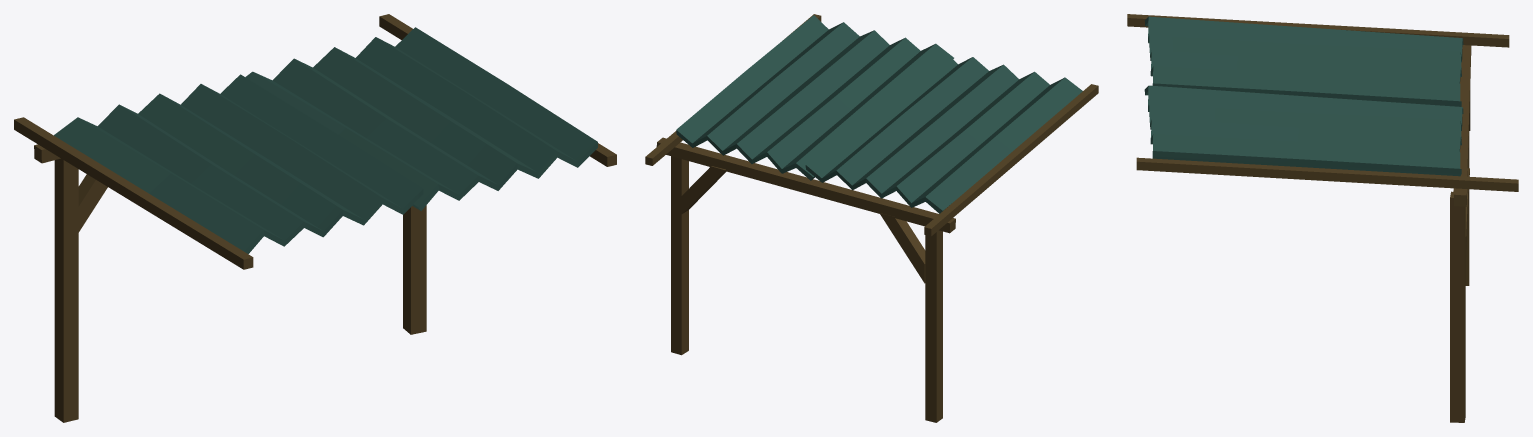
File: DarkWoodBuildingSmallCorrugatedAwning1.fbx
3 views of the same model, side by side, from view 1: azimuth 30°, elevation 25°; view 2: azimuth 150°, elevation 25°; view 3: azimuth 270°, elevation 25° (orthographic). The views are drawn at different scales.
Parts seen in each view (by area): view 1: CorrugatedRoofing, Supports; view 2: CorrugatedRoofing, Supports; view 3: CorrugatedRoofing, Supports.
Part boxes in pixels (bbox=[...]): CorrugatedRoofing: bbox=[54, 27, 597, 253]; Supports: bbox=[14, 14, 616, 422]; CorrugatedRoofing: bbox=[676, 15, 1082, 213]; Supports: bbox=[645, 14, 1098, 422]; CorrugatedRoofing: bbox=[1144, 16, 1463, 176]; Supports: bbox=[1127, 14, 1518, 422].
Bounding box in the file's own units: 656 × 513 × 664.
